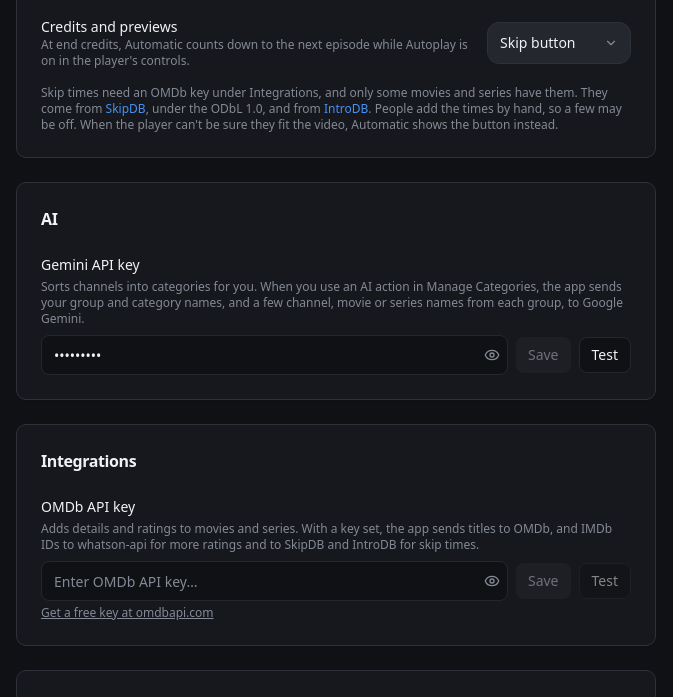
it: Settings Gemini key › removes the key when the field is cleared and saved
(page scrolled)
Clear the password field labelled "Gemini API key": (274, 355) top-left (41, 335), bottom-right (508, 375)
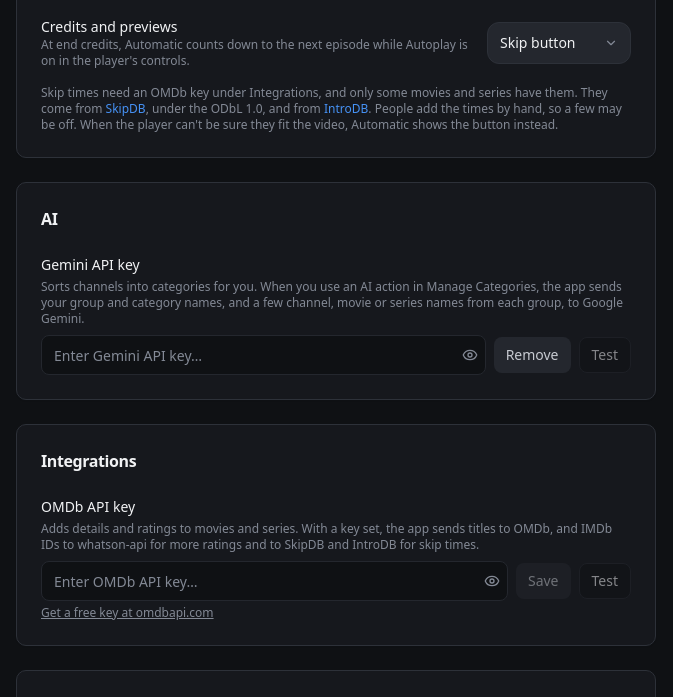
Click the button "Remove": (532, 355) top-left (494, 337), bottom-right (570, 373)
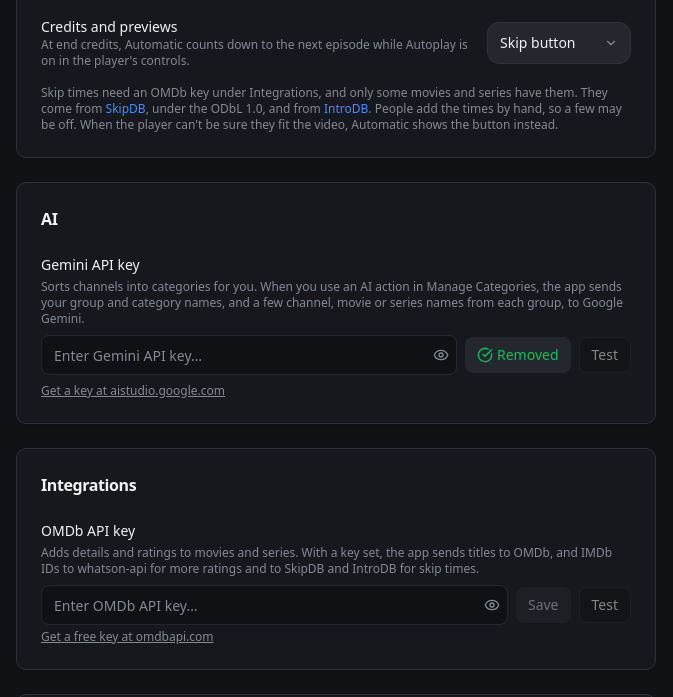
Now the button "Removed" is shown, box top-left (465, 337), bottom-right (570, 373)
